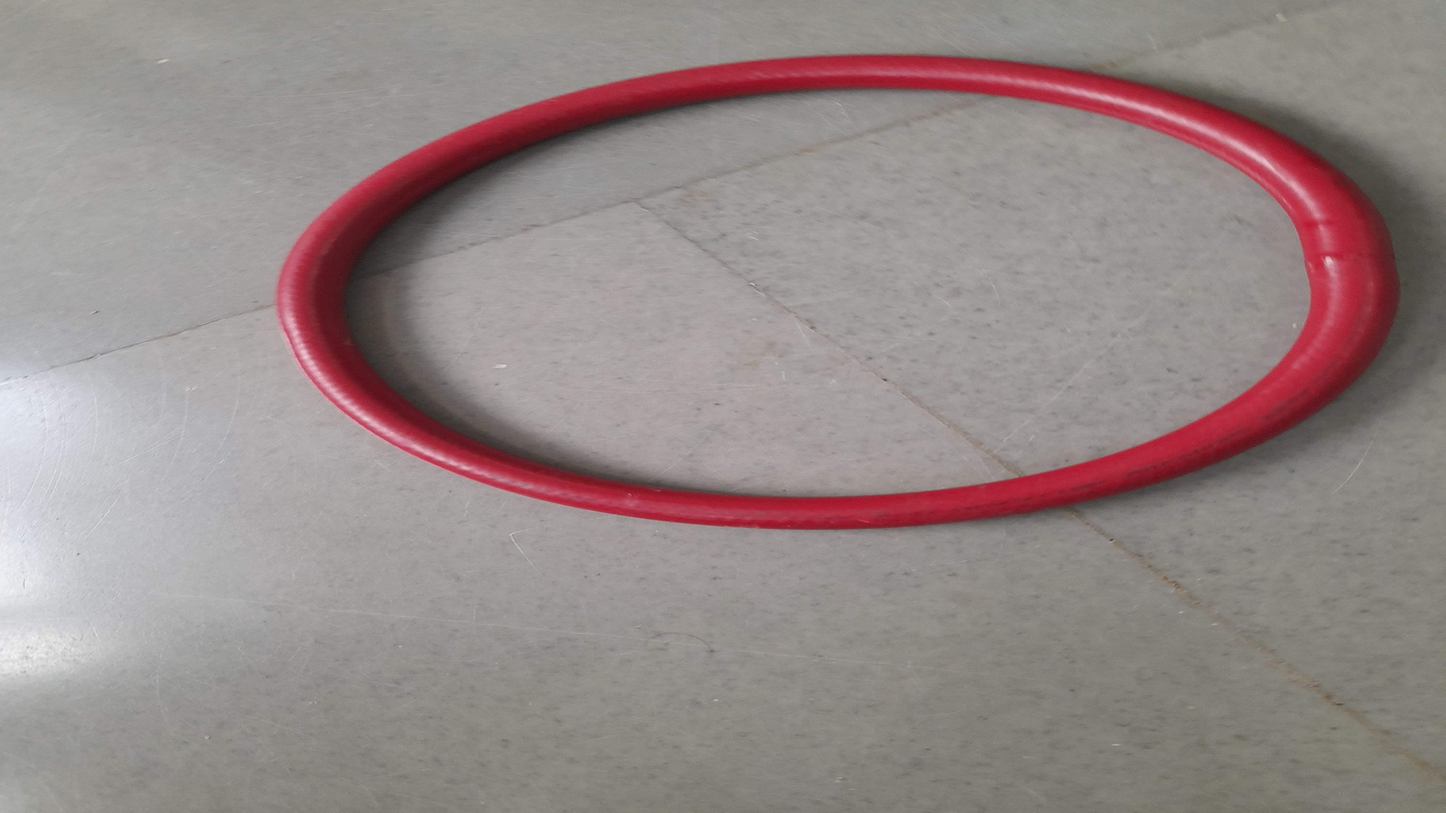Red ring: (281, 52, 1396, 528)
